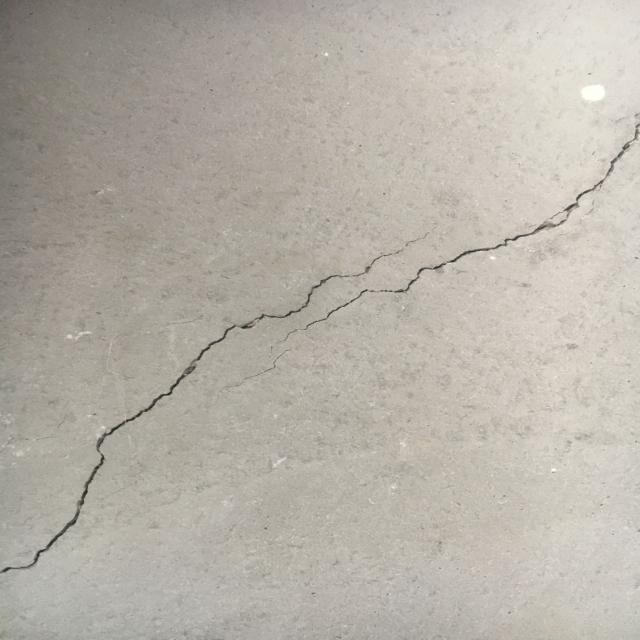Rachadura: (0, 240, 418, 575), (280, 121, 640, 344)
